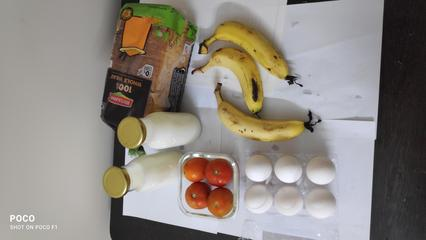banana: (207, 21, 308, 94), (217, 89, 323, 147)
bread: (109, 7, 193, 126)
eggs: (249, 152, 353, 216)
milk: (100, 154, 181, 207), (114, 112, 212, 148)
tomato: (186, 155, 242, 219)
